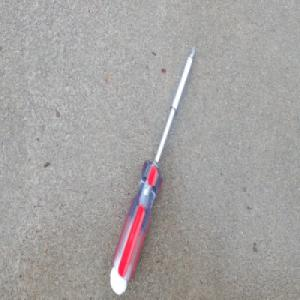Screwdriver: (109, 41, 196, 297)
